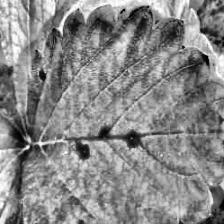Leaf Spot: (20, 4, 224, 224), (0, 0, 101, 144), (0, 101, 74, 224)
